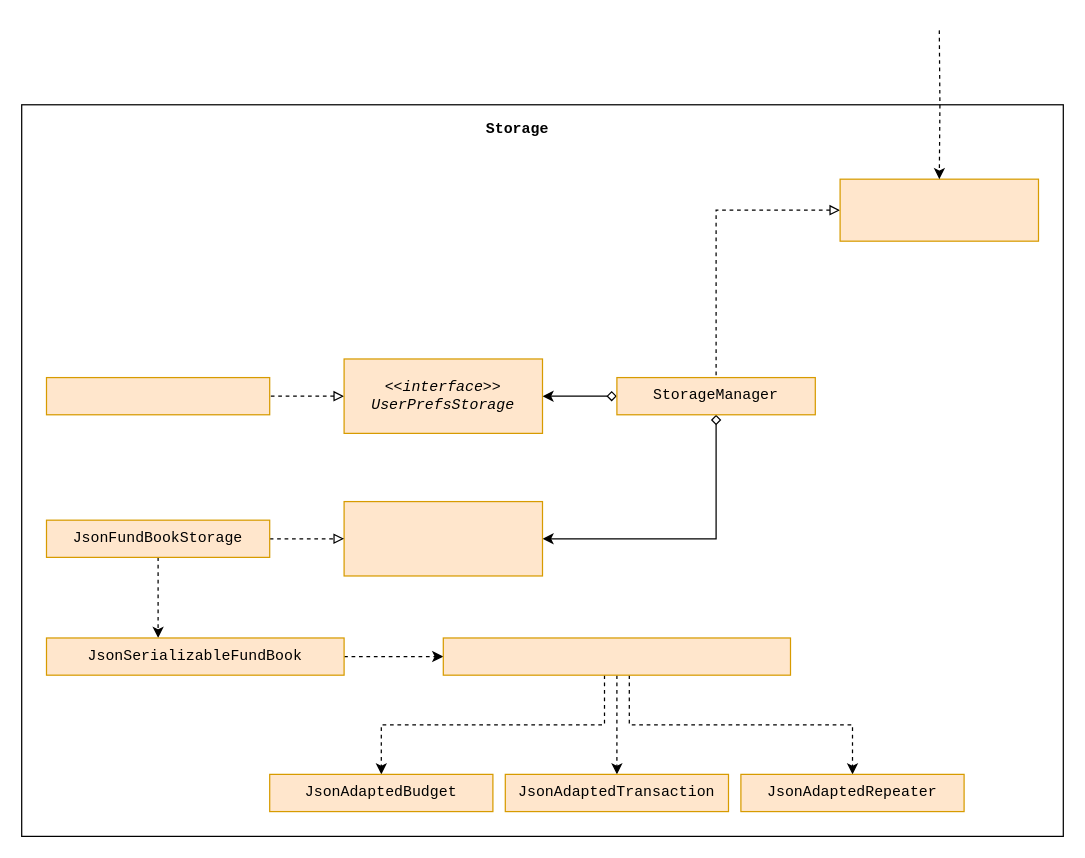
The diagram is 1085 pixels wide and 858 high, and some of its shapes have lost their labels. Here are the shapes that lost their labels. From the top down, the centre of each, then its label:
At pixel 938 209: "<<interface>> Storage".
At pixel 157 395: "JsonUserPrefsStorage".
At pixel 442 538: "<<interface>> FundBookStorage".
At pixel 616 656: "JsonSerializableIchiFundStorage".
